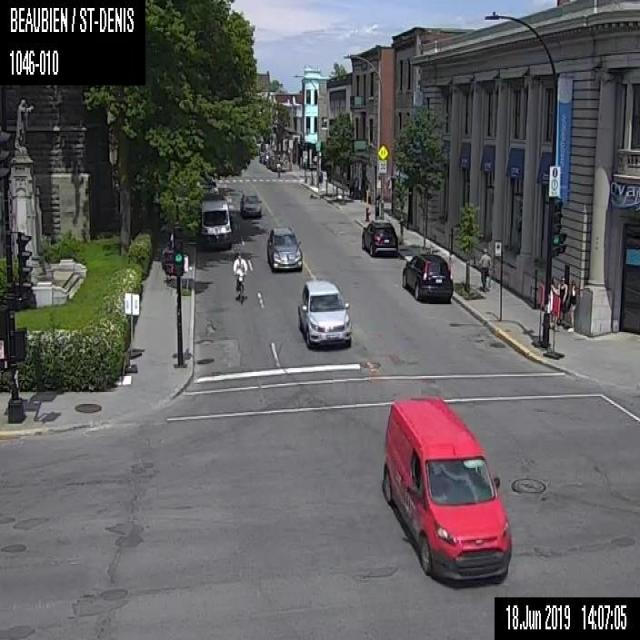construction: (542, 296, 563, 357)
cyclist: (232, 252, 247, 304)
pedestrian: (549, 274, 560, 330), (556, 275, 568, 325), (477, 248, 491, 289), (566, 279, 576, 331)
vehicle: (382, 395, 511, 585), (297, 279, 351, 349), (402, 253, 452, 302), (199, 198, 232, 250), (267, 226, 302, 271), (361, 221, 397, 256), (240, 192, 262, 217)
